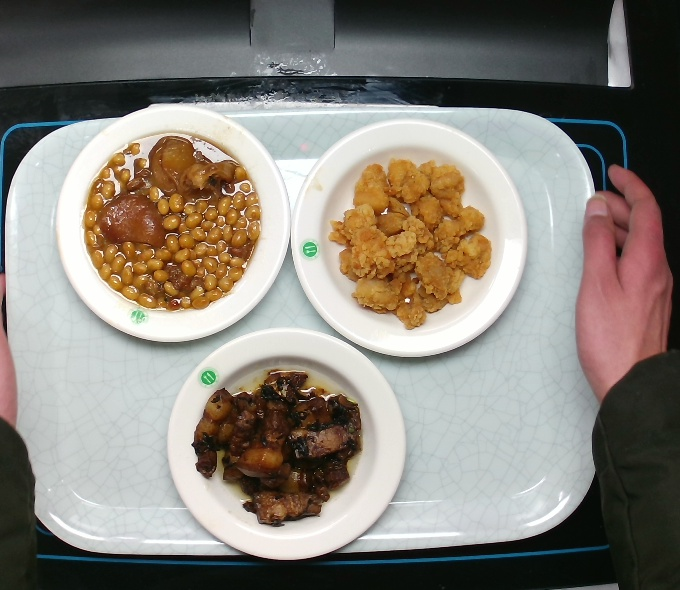wcq-GanCaiRou: (191, 370, 363, 529)
wcq-HuangDouZhuJiao: (82, 127, 262, 312)
wcq-JiMiHua: (325, 153, 493, 329)
